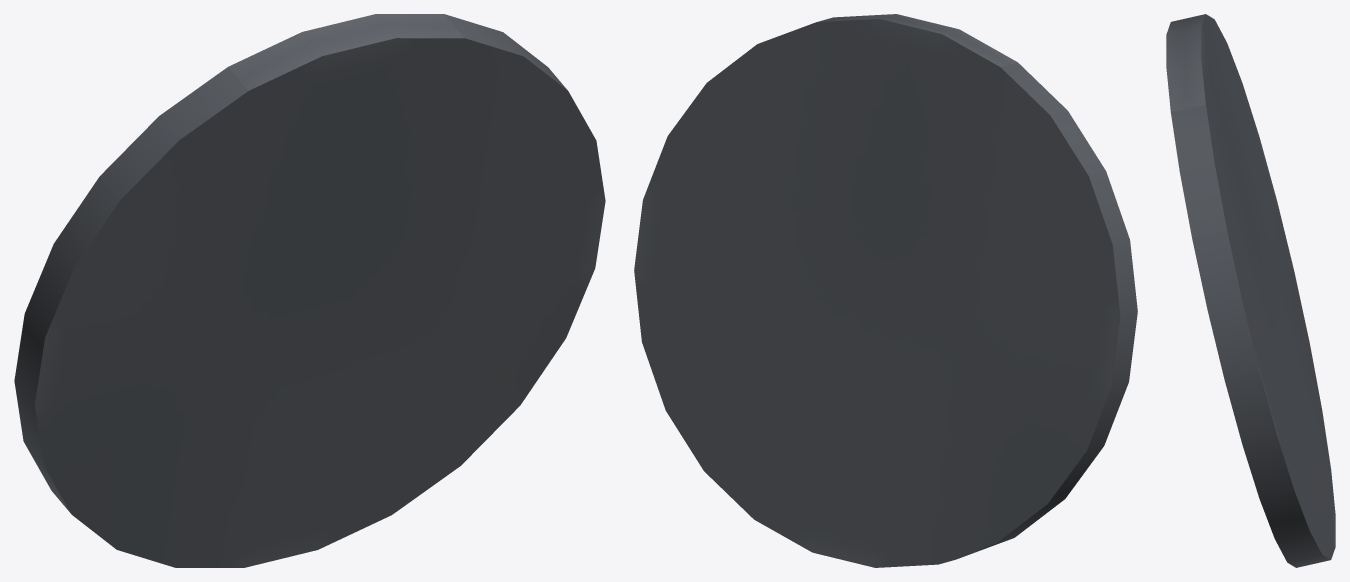
File: lid_open.obj
3 views of the same model, side by side, from view 1: azimuth 30°, elevation 25°; view 2: azimuth 150°, elevation 25°; view 3: azimuth 270°, elevation 25° (orthographic). The views are drawn at different scales.
Visible parts, largest first — view 1: fuel_fill_cover__lid_open__lid; view 2: fuel_fill_cover__lid_open__lid; view 3: fuel_fill_cover__lid_open__lid.
Boxes of the visible parts, x1,y1,x2,y2 form: fuel_fill_cover__lid_open__lid: (14,14,605,567); fuel_fill_cover__lid_open__lid: (634,14,1137,567); fuel_fill_cover__lid_open__lid: (1166,14,1335,567).
Bounding box in the file's own units: 0.5577 × 0.5499 × 0.1701.
